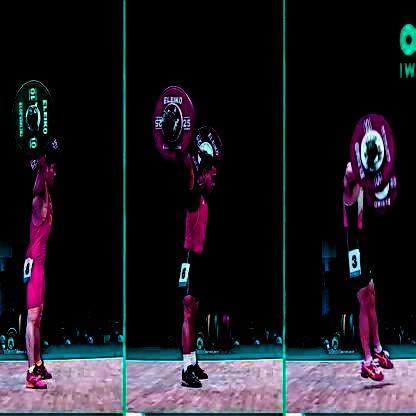Barbell: (366, 137, 379, 156), (160, 111, 170, 122), (28, 105, 36, 118)
